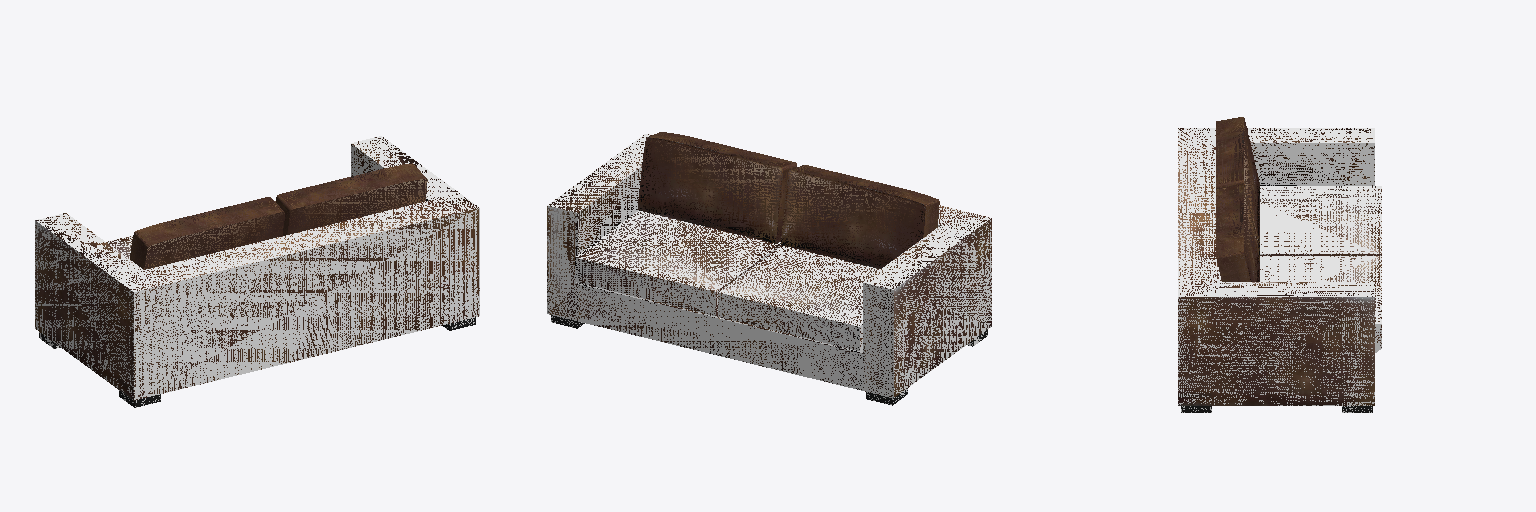
3 renders of one model, left to right at view 1: azimuth 30°, elevation 25°; view 2: azimuth 150°, elevation 25°; view 3: azimuth 270°, elevation 25°, orthographic.
Parts seen in each view (by area): view 1: mesh5_mesh5-geometry, mesh4_mesh4-geometry, mesh3_mesh3-geometry, mesh1_mesh1-geometry, mesh2_mesh2-geometry; view 2: mesh4_mesh4-geometry, mesh5_mesh5-geometry, mesh2_mesh2-geometry, mesh1_mesh1-geometry, mesh3_mesh3-geometry; view 3: mesh2_mesh2-geometry, mesh4_mesh4-geometry, mesh1_mesh1-geometry, mesh3_mesh3-geometry.
Boxes of the visible parts, x1=… form: mesh5_mesh5-geometry: x1=39, y1=137, x2=479, y2=407; mesh4_mesh4-geometry: x1=35, y1=213, x2=305, y2=400; mesh3_mesh3-geometry: x1=130, y1=197, x2=284, y2=269; mesh1_mesh1-geometry: x1=276, y1=163, x2=427, y2=235; mesh2_mesh2-geometry: x1=275, y1=136, x2=478, y2=249; mesh4_mesh4-geometry: x1=718, y1=205, x2=991, y2=397; mesh5_mesh5-geometry: x1=547, y1=206, x2=987, y2=405; mesh2_mesh2-geometry: x1=547, y1=134, x2=781, y2=318; mesh1_mesh1-geometry: x1=637, y1=132, x2=796, y2=243; mesh3_mesh3-geometry: x1=781, y1=165, x2=939, y2=268; mesh2_mesh2-geometry: x1=1178, y1=213, x2=1381, y2=405; mesh4_mesh4-geometry: x1=1178, y1=128, x2=1381, y2=255; mesh1_mesh1-geometry: x1=1216, y1=184, x2=1259, y2=281; mesh3_mesh3-geometry: x1=1216, y1=117, x2=1259, y2=250.
Bounding box in the file's own units: 0.8377 × 0.3423 × 0.4255.
Materials: 9 (7 with a texture image).